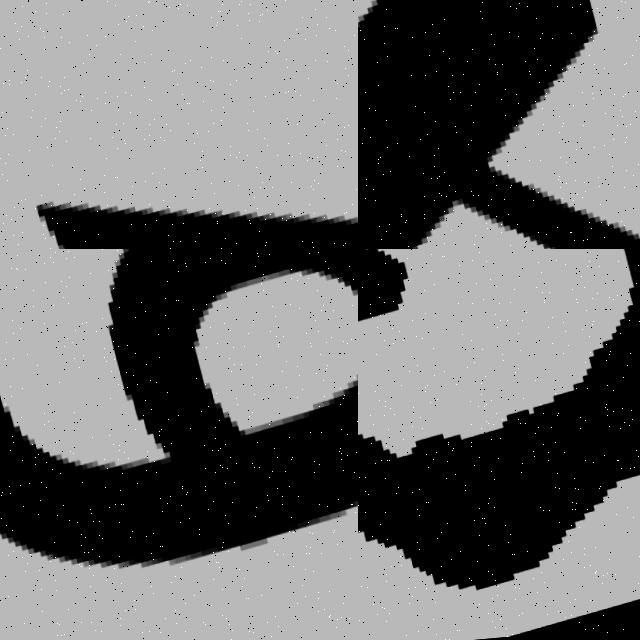6: (0, 249, 358, 640)
I: (0, 36, 358, 249)
O: (358, 249, 640, 598)
X: (358, 0, 640, 249)
